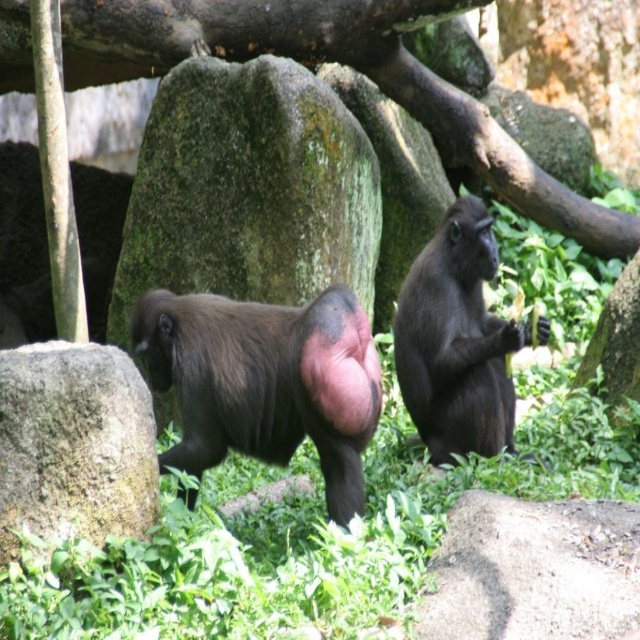Monkey: (396, 189, 535, 480)
